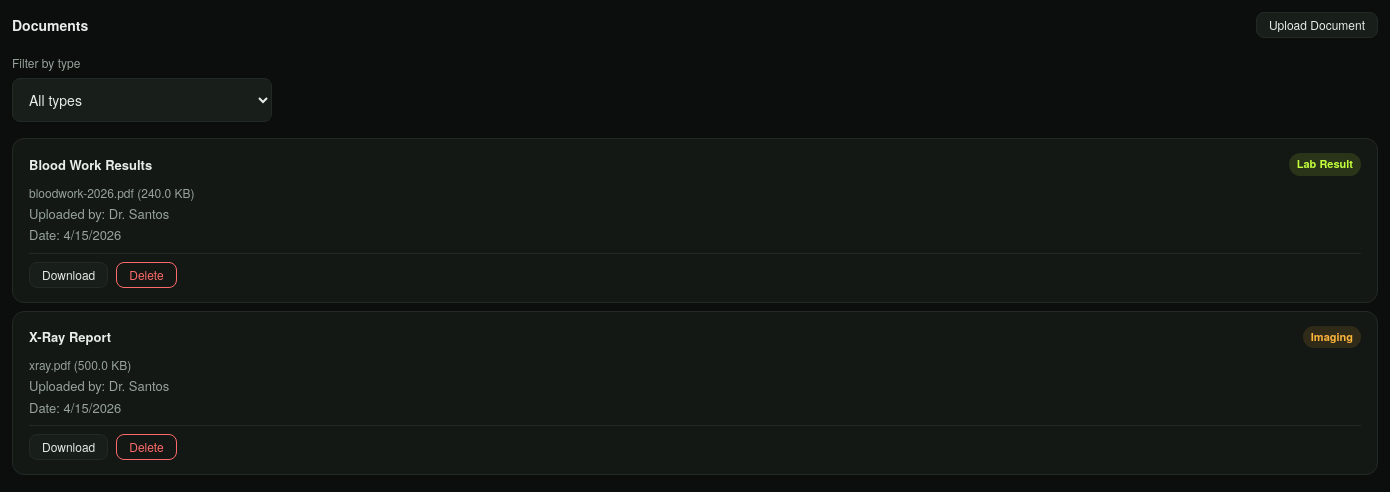
Test: DocumentsPanel › filters documents by type
Check: the text "Blood Work Results" is shown, box [29,154,152,174]
Check: the text "X-Ray Report" is shown, box [29,327,111,346]
Note: Filter to only Lab Results
Select "Lab Result" in the dropdown named "Filter by document type": (142, 100) [12,78,272,122]
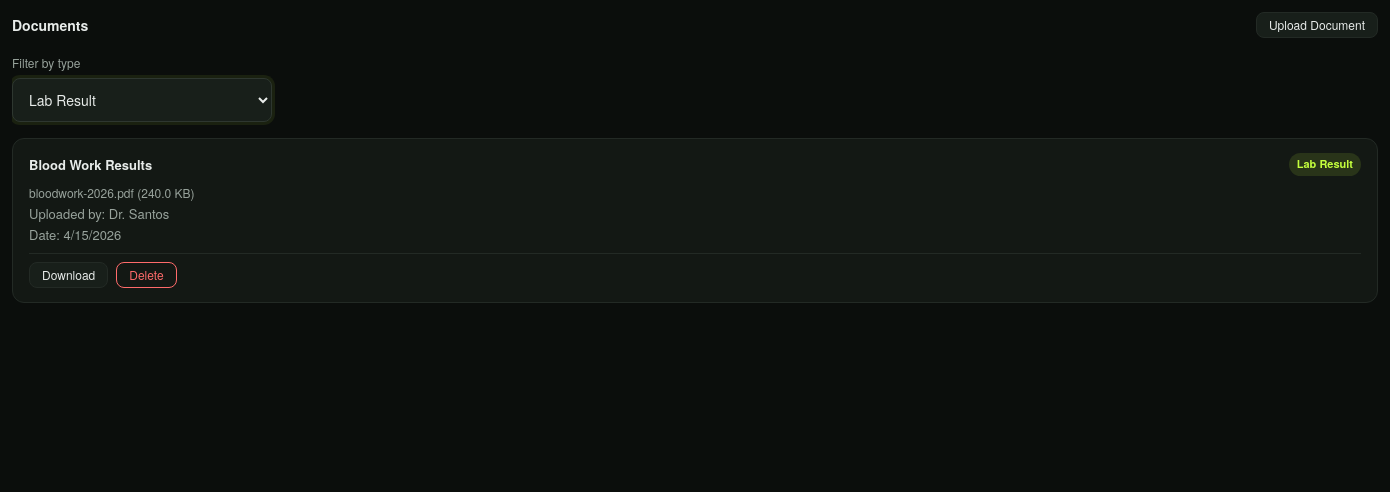
Check: the text "Blood Work Results" is shown, box [29,154,152,174]
Check: the text "X-Ray Report" is gone
